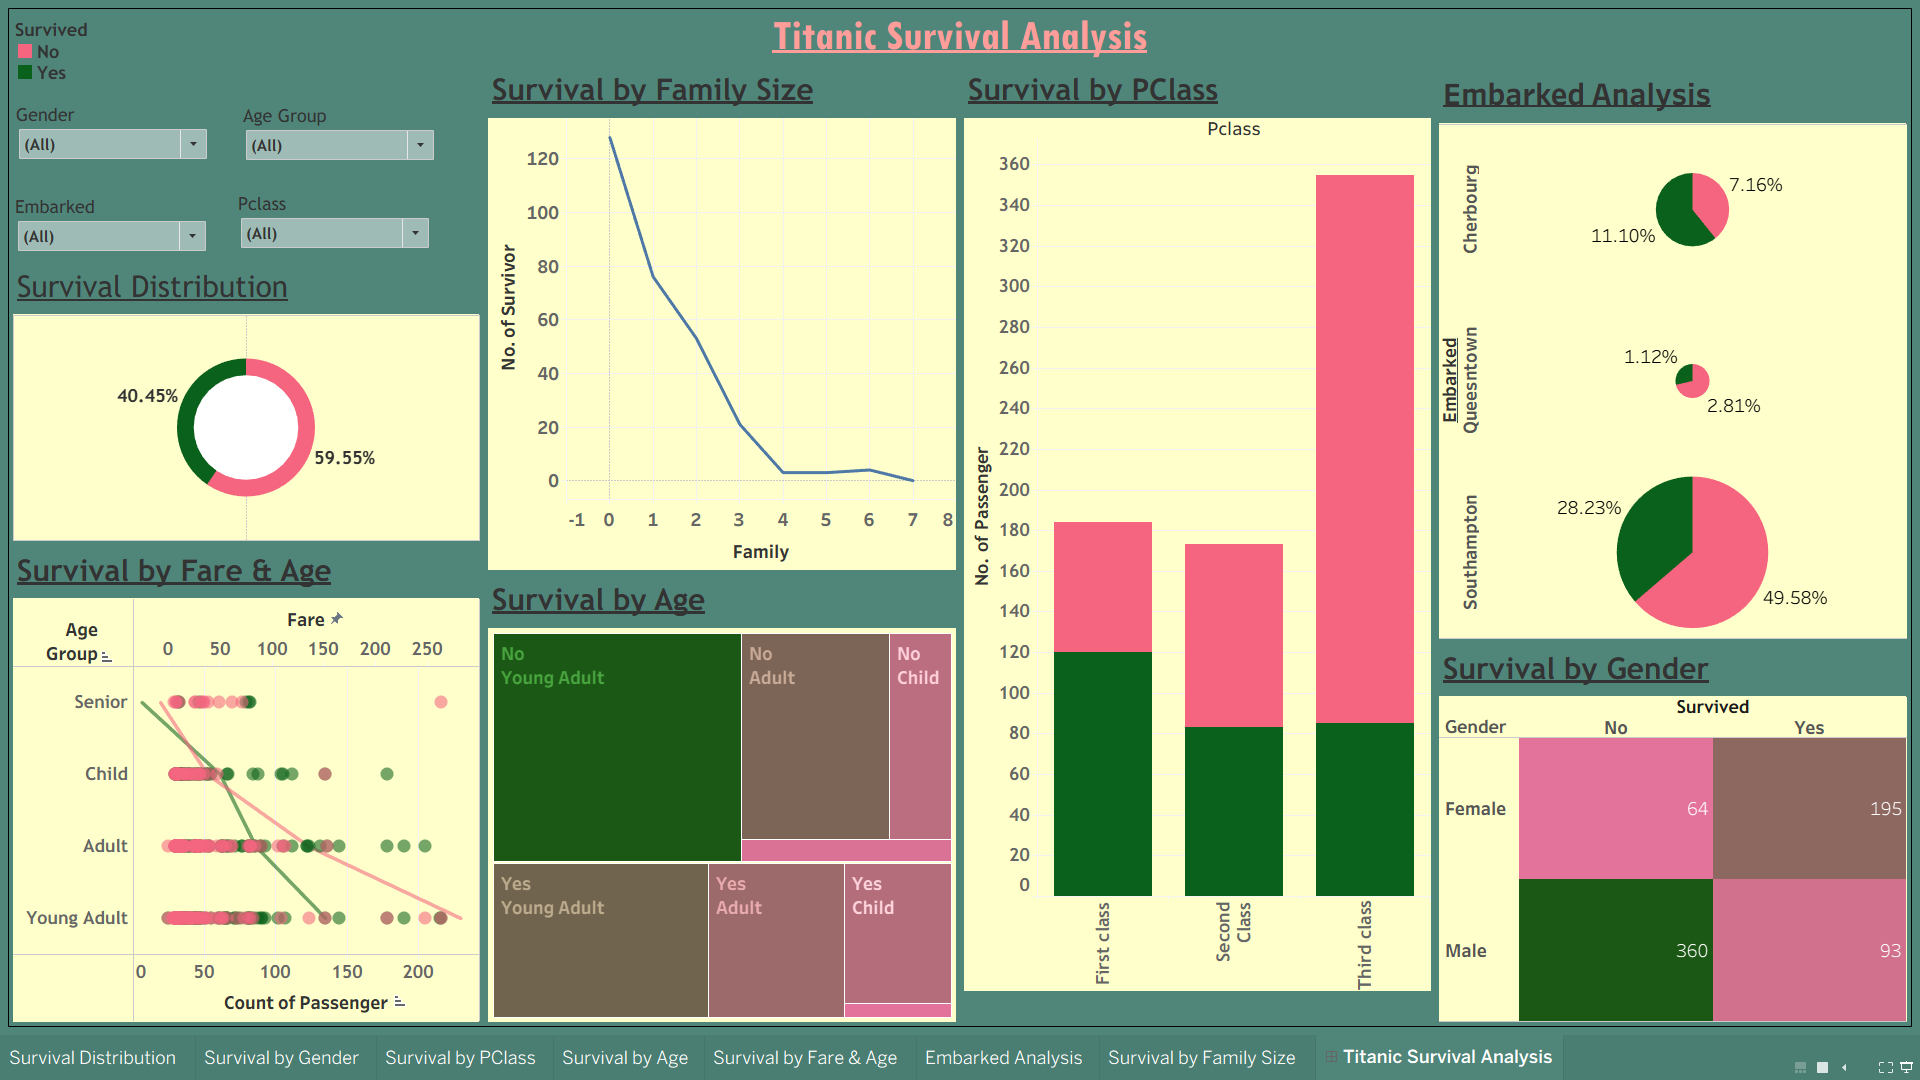

The page's visual inventory and layout, read from the dashboard file:
{"tool":"tableau","page":{"name":"Titanic Survival Analysis","canvas":[1000,1000],"units":"permille","ordinal":0},"visuals":[{"type":"title","box":[5.4,11.2,989.2,68.2]},{"type":"legend","title":"Survival Distribution","param":"[federated.0n2blbn0y4480p14w9qdh0mp7j39].[none:Survived:nk]","box":[7.8,18.6,84.1,79.4]},{"type":"worksheet","title":"Survival by Family Size","mark":"Automatic","rows":["Calculation_0858510678818818"],"cols":["Family"],"box":[252.6,79.4,247.3,482.2]},{"type":"worksheet","title":"Survival by PClass","mark":"Automatic","rows":["Calculation_0858510678818818"],"cols":["Pclass"],"box":[499.9,79.4,247.3,909.4]},{"type":"worksheet","title":"Embarked Analysis","mark":"Pie","rows":["Embarked"],"box":[747.2,79.4,247.4,718.4]},{"type":"filter","title":"Survival Distribution","param":"[federated.0n2blbn0y4480p14w9qdh0mp7j39].[none:Gender:nk]","box":[8.4,100.5,101,81.9]},{"type":"filter","title":"Survival Distribution","param":"[federated.0n2blbn0y4480p14w9qdh0mp7j39].[none:Calculation_0858510676824064:nk]","box":[126.8,101.7,101,81.9]},{"type":"filter","title":"Survival Distribution","param":"[federated.0n2blbn0y4480p14w9qdh0mp7j39].[none:Pclass:nk]","box":[123.8,186.1,101,81.9]},{"type":"filter","title":"Survival Distribution","param":"[federated.0n2blbn0y4480p14w9qdh0mp7j39].[none:Embarked:nk]","box":[7.8,189.8,101,81.9]},{"type":"worksheet","title":"Survival Distribution","mark":"Pie","cols":["Calculation_0858510687744009","Calculation_0858510687780875"],"box":[5.4,265.9,247.2,268.1]},{"type":"worksheet","title":"Survival by Fare & Age","mark":"Line","rows":["Calculation_0858510676824064"],"cols":["Calculation_0858510678818818","Fare"],"box":[5.4,534,247.2,454.8]},{"type":"worksheet","title":"Survival by Age","mark":"Automatic","box":[252.6,561.6,247.3,427.2]},{"type":"worksheet","title":"Survival by Gender","mark":"Square","rows":["Gender"],"cols":["Survived"],"box":[747.2,797.8,247.4,191]}]}

Visuals, with their boxes on the dashboard's canvas, which has no fixed pixel size, in thousandths of its width and height (x1, y1, x2, y2). These are canvas units, not pixel positions in the 1920x1080 screenshot, which may show the page scaled, cropped or inside an application window:
title: box(5, 11, 995, 79)
"Survival Distribution" legend: box(8, 19, 92, 98)
"Survival by Family Size" worksheet: box(253, 79, 500, 562)
"Survival by PClass" worksheet: box(500, 79, 747, 989)
"Embarked Analysis" worksheet (Pie marks): box(747, 79, 995, 798)
"Survival Distribution" filter: box(8, 100, 109, 182)
"Survival Distribution" filter: box(127, 102, 228, 184)
"Survival Distribution" filter: box(124, 186, 225, 268)
"Survival Distribution" filter: box(8, 190, 109, 272)
"Survival Distribution" worksheet (Pie marks): box(5, 266, 253, 534)
"Survival by Fare & Age" worksheet (Line marks): box(5, 534, 253, 989)
"Survival by Age" worksheet: box(253, 562, 500, 989)
"Survival by Gender" worksheet (Square marks): box(747, 798, 995, 989)
